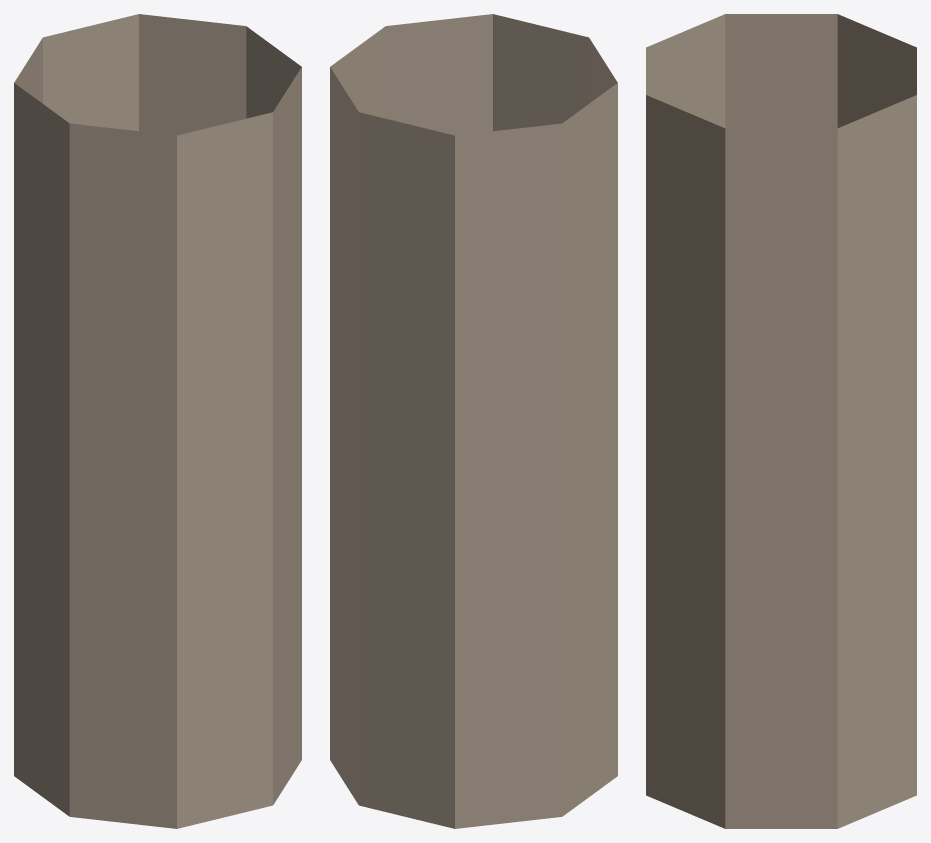
File: Hilly_Prop_Bridge_Log_Post_Top.glb
The picture shows the model from 3 angles, left to right: view 1: azimuth 30°, elevation 25°; view 2: azimuth 150°, elevation 25°; view 3: azimuth 270°, elevation 25°; orthographic projection.
Visible parts, largest first — view 1: Hilly_Prop_Bridge_Log_Post_Top; view 2: Hilly_Prop_Bridge_Log_Post_Top; view 3: Hilly_Prop_Bridge_Log_Post_Top.
Part boxes in pixels (bbox=[...]): Hilly_Prop_Bridge_Log_Post_Top: bbox=[14, 14, 301, 828]; Hilly_Prop_Bridge_Log_Post_Top: bbox=[330, 14, 617, 828]; Hilly_Prop_Bridge_Log_Post_Top: bbox=[646, 14, 916, 828].
Size of the model in its own units: 0.106 by 0.3025 by 0.106.
